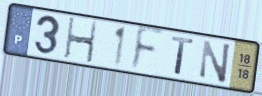1: (112, 25, 131, 71)
3: (32, 14, 64, 58)
F: (128, 25, 166, 74)
H: (63, 16, 99, 66)
N: (198, 39, 233, 86)
T: (169, 35, 196, 78)
